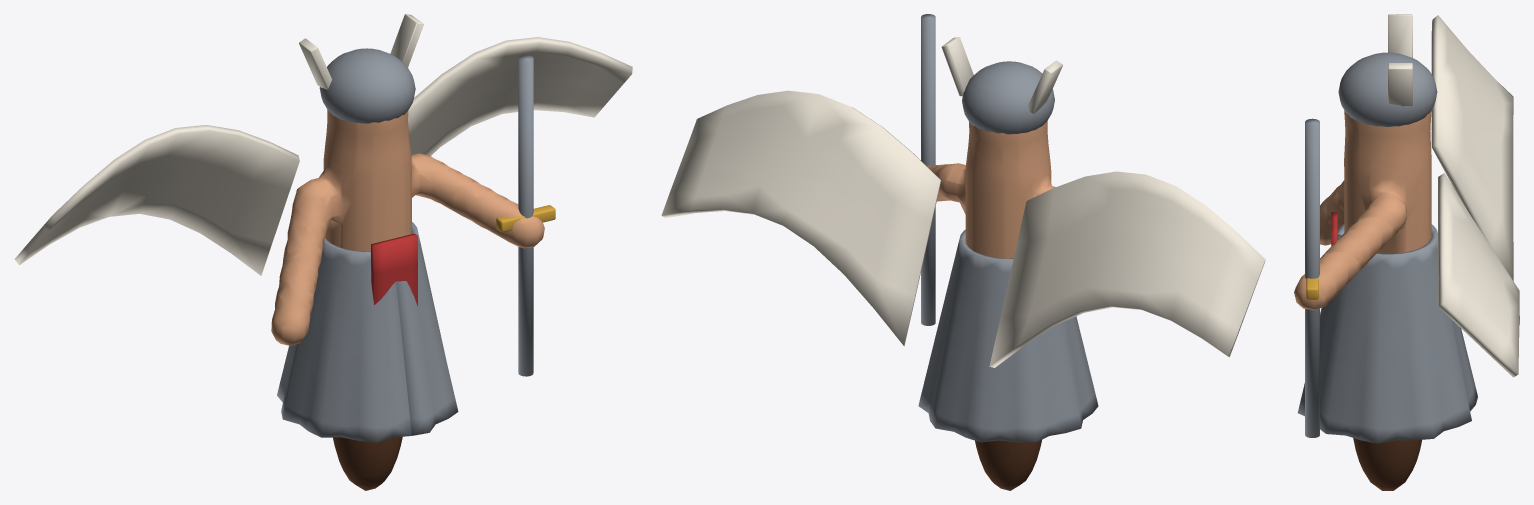
Rendered from walkyrie.glb.
3 renders of one model, left to right at view 1: azimuth 30°, elevation 25°; view 2: azimuth 150°, elevation 25°; view 3: azimuth 270°, elevation 25°, orthographic. The views are drawn at different scales.
Parts seen in each view (by area): view 1: white, steel, skin, leather, team; view 2: white, steel, skin, leather; view 3: steel, white, skin, leather, gold.
Part boxes in pixels (x1,y1,x2,y2): white: (14, 14, 632, 275); steel: (277, 48, 533, 442); skin: (271, 109, 544, 345); leather: (333, 436, 402, 490); team: (371, 233, 417, 306); white: (661, 37, 1265, 367); steel: (918, 14, 1098, 442); skin: (927, 121, 1055, 258); leather: (975, 440, 1041, 490); steel: (1297, 52, 1477, 443); white: (1388, 14, 1519, 377); skin: (1294, 110, 1431, 310); leather: (1353, 438, 1421, 490); gold: (1306, 278, 1318, 299).
Bounding box in the file's own units: 0.9053 × 0.672 × 0.3059.
